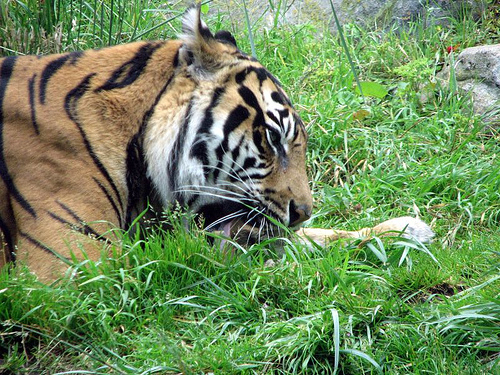Tigre: (17, 32, 325, 261)
